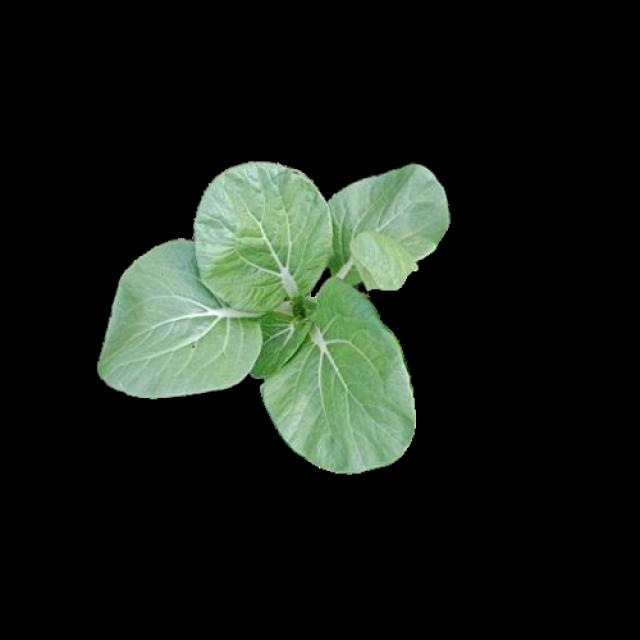healthy: (101, 180, 444, 487)
mature: (99, 167, 442, 473)
